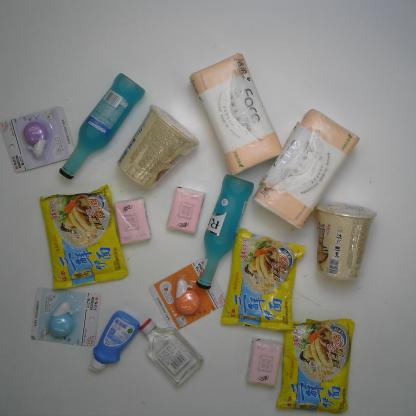Alcohol: (58, 72, 144, 180), (196, 174, 254, 290), (138, 316, 204, 389)
Instant Noodles: (38, 184, 129, 289), (221, 227, 304, 335), (277, 314, 355, 412), (117, 104, 200, 190), (310, 202, 378, 280)
Personal Hygiene: (88, 308, 140, 375)
Stationery: (149, 258, 227, 332), (0, 105, 78, 173), (32, 285, 101, 347)
Tissue: (255, 108, 362, 232), (190, 54, 285, 175), (166, 185, 206, 238), (111, 198, 152, 247), (248, 338, 285, 390)
